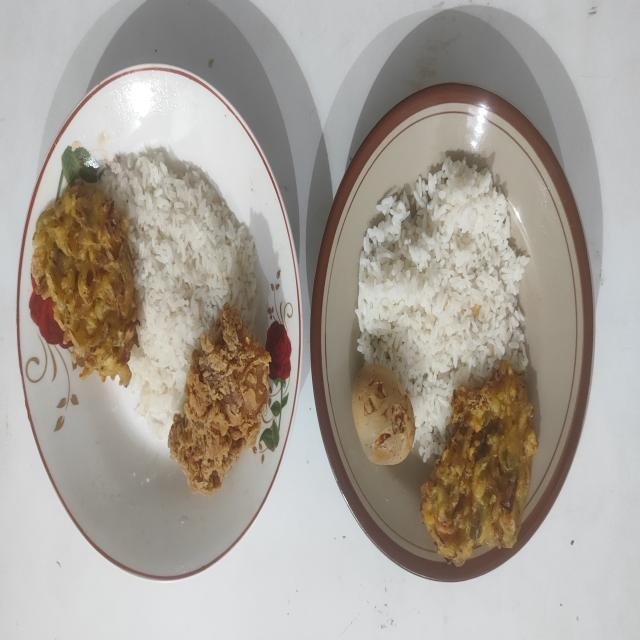nasi_putih: (356, 155, 530, 460), (100, 146, 259, 438)
